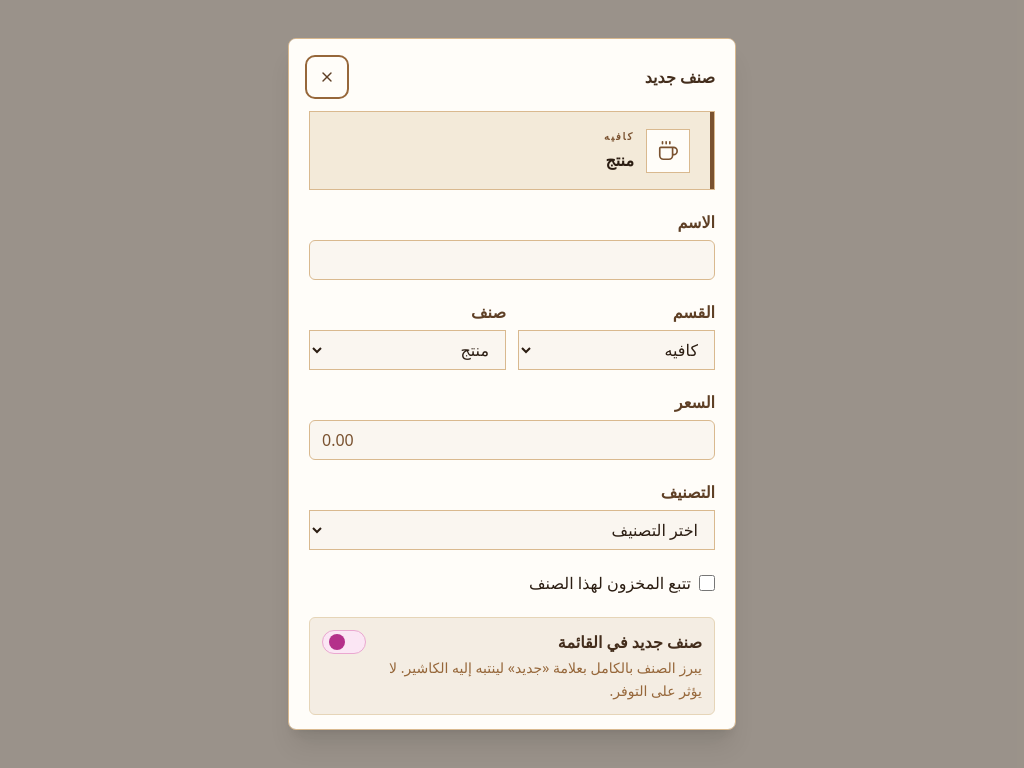
Test: EditProductDialog › rejects an invalid current quantity before saving
Step 1. Type "حليب" into the field labelled "الاسم" → (512, 260), box [309,240,715,280]
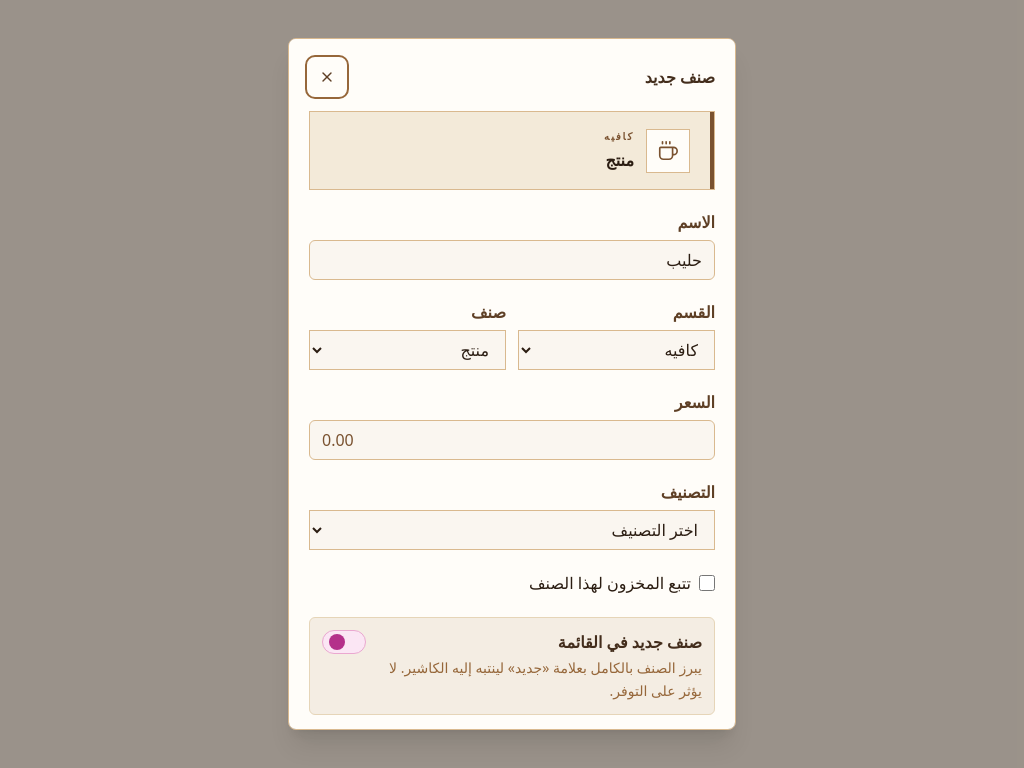
Step 2. Type "10" into the field labelled "السعر" → (512, 440), box [309,420,715,460]
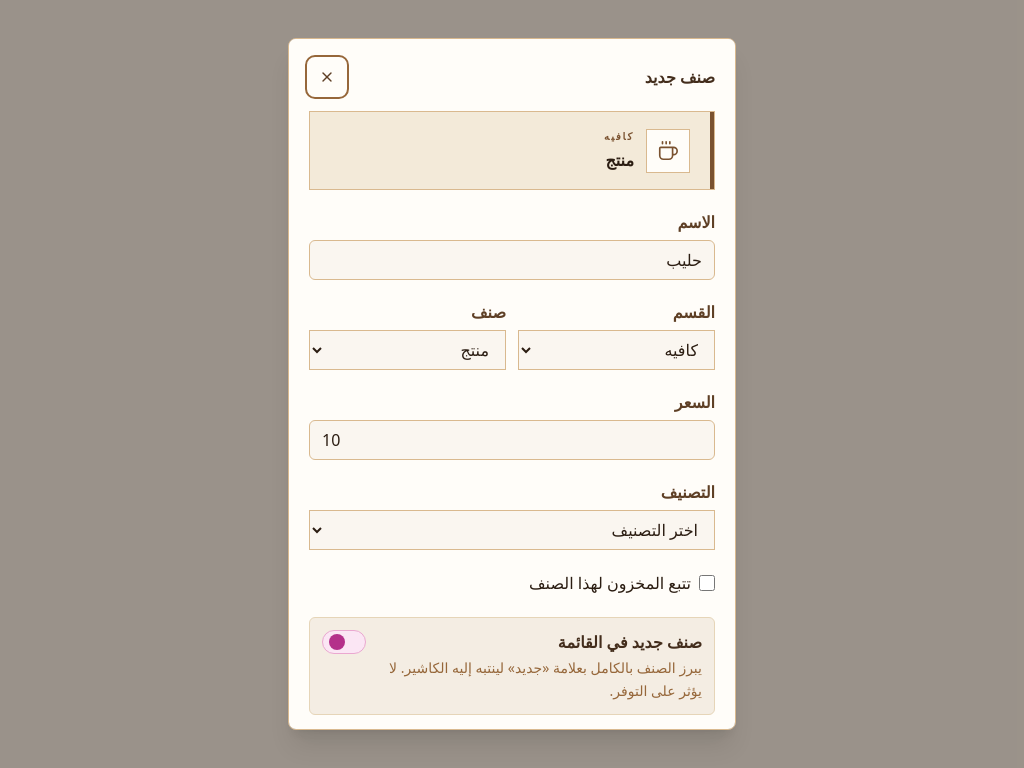
Step 3. Select "عام" in the dropdown labelled "التصنيف" → (512, 530), box [309,510,715,550]
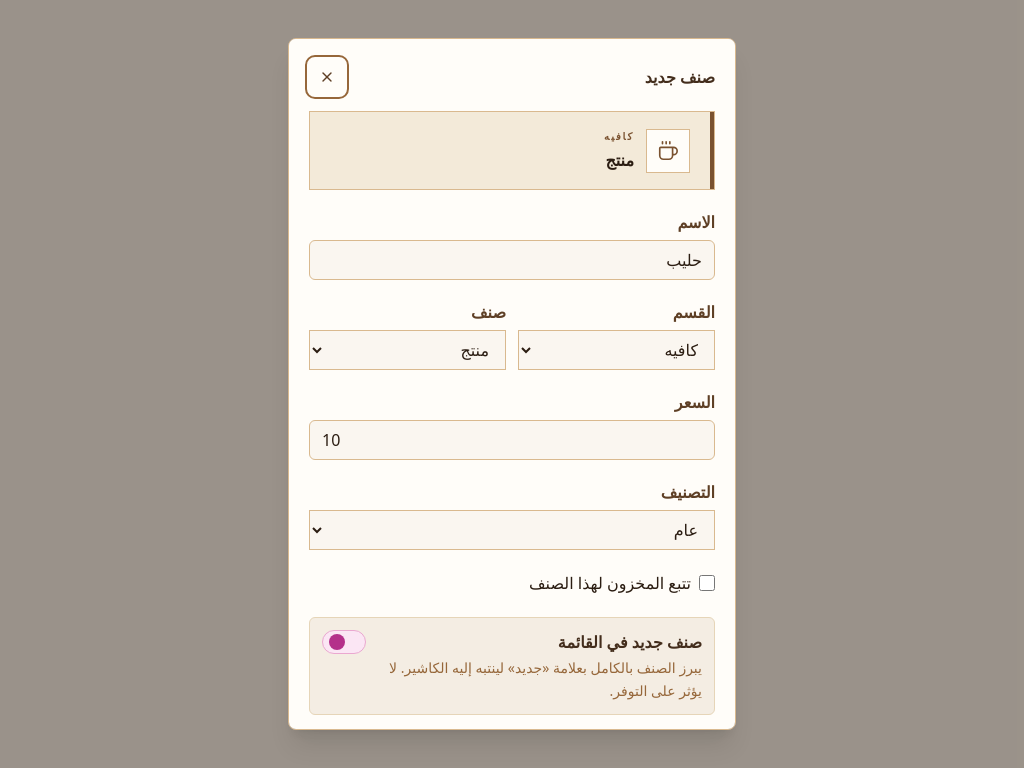
Step 4. Click the checkbox labelled "تتبع المخزون لهذا الصنف" → (707, 584), box [699,576,715,592]
(page scrolled)
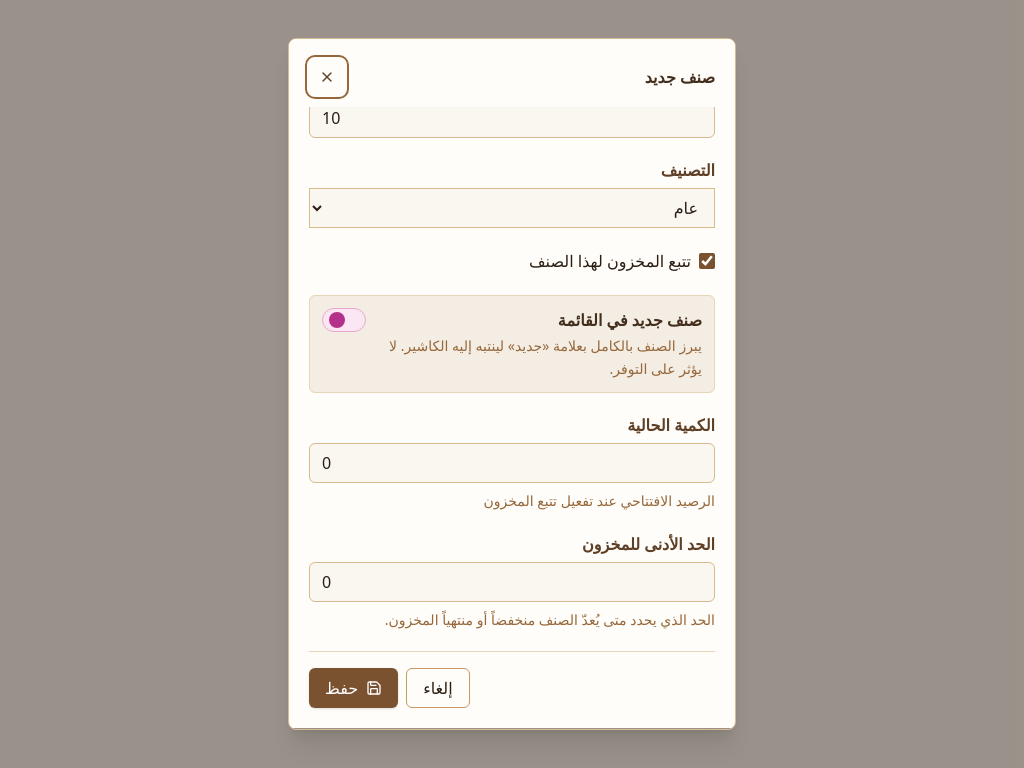
Step 5. Type "-5" into the field labelled "الكمية الحالية" → (512, 463), box [309,443,715,483]
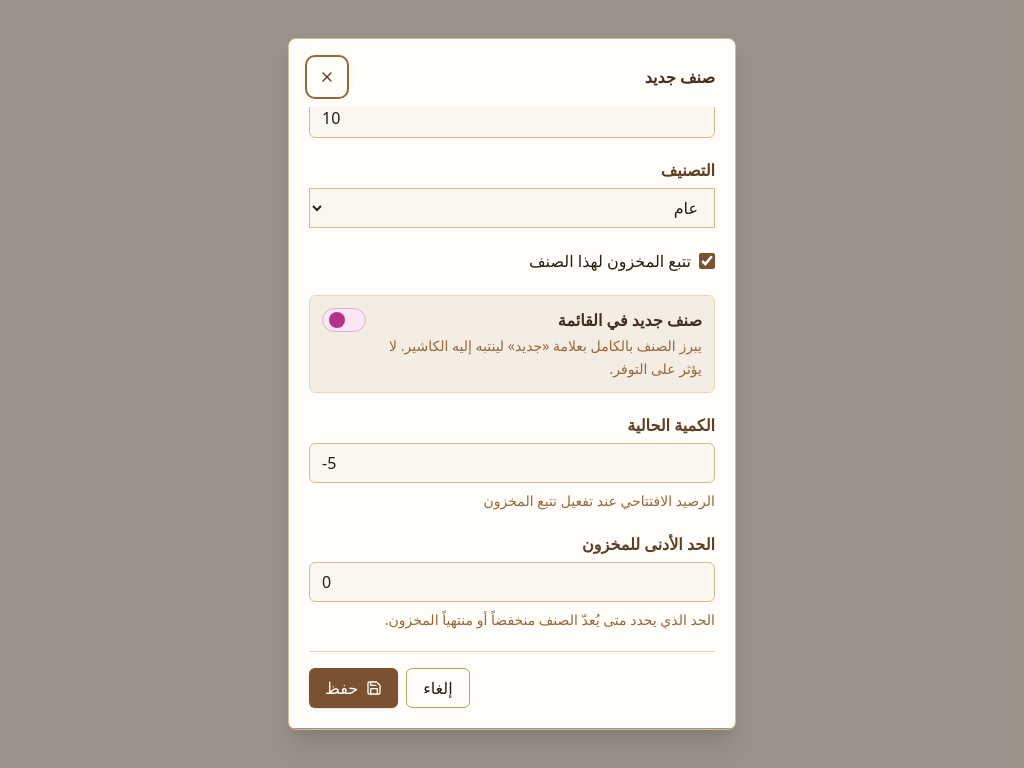
Step 6. Click the button "حفظ" → (354, 688), box [309,668,398,708]
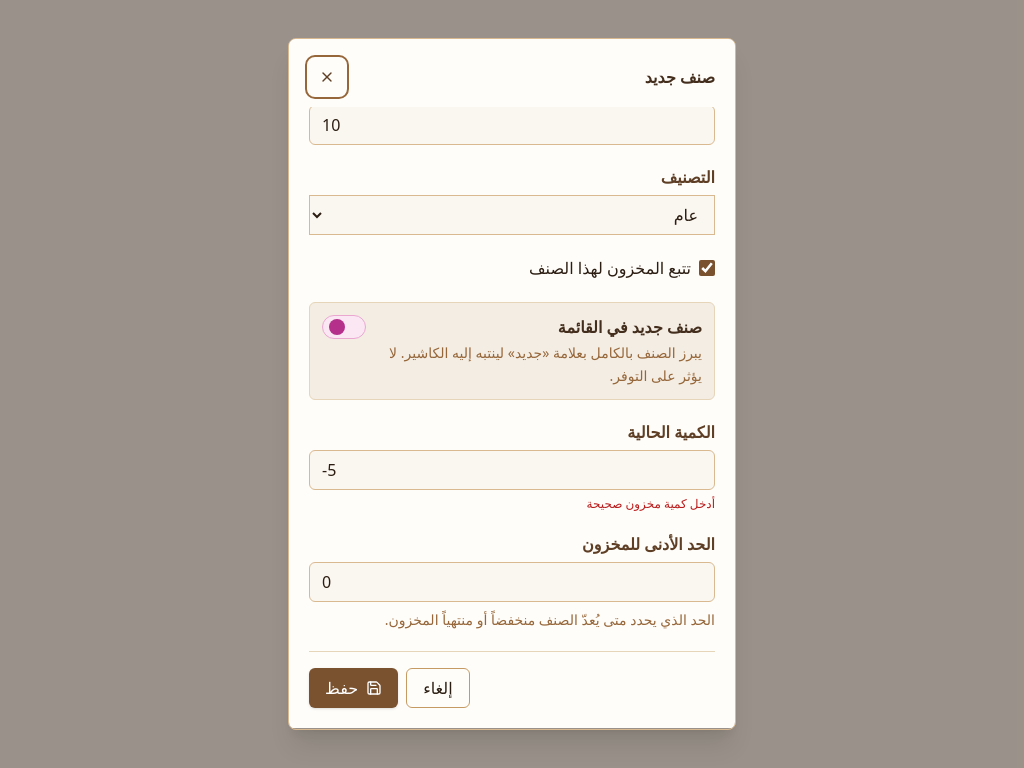
Expected: the text "أدخل كمية مخزون صحيحة" is shown, [587,495,715,512]
